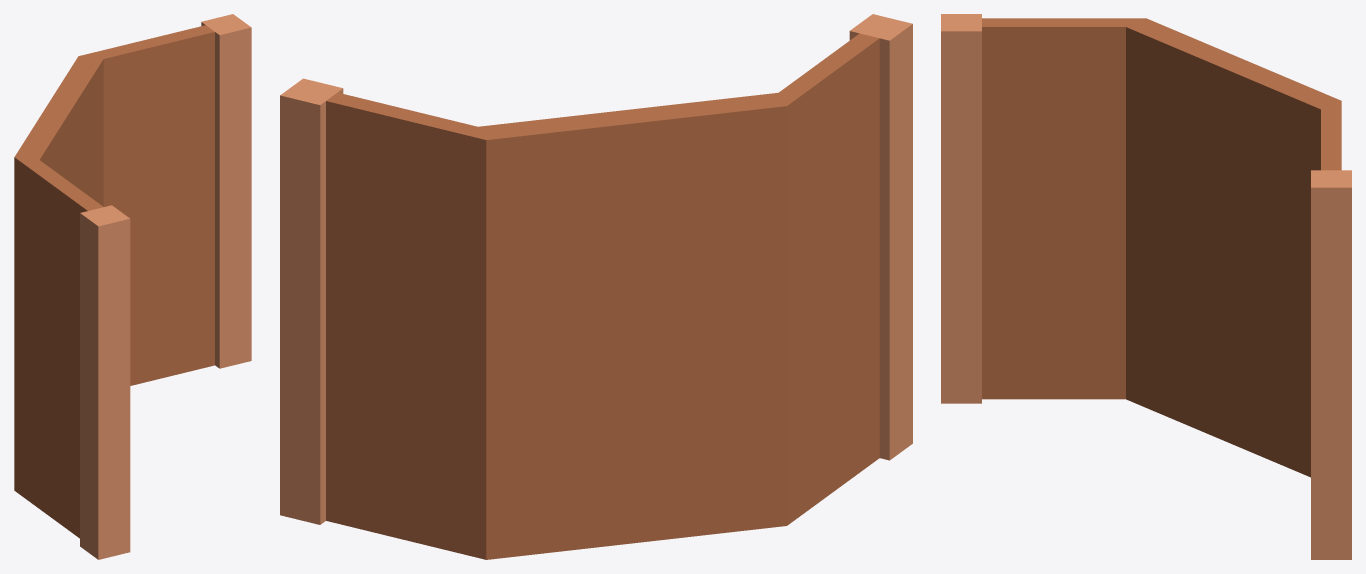
The model's file is wallWoodCornerDiagonal.glb.
3 views of the same model, side by side, from view 1: azimuth 30°, elevation 25°; view 2: azimuth 150°, elevation 25°; view 3: azimuth 270°, elevation 25° (orthographic). The views are drawn at different scales.
Visible parts, largest first — view 1: wallWoodCornerDiagonal; view 2: wallWoodCornerDiagonal; view 3: wallWoodCornerDiagonal.
Part boxes in pixels (left/top/right/bottom): wallWoodCornerDiagonal: left=14, top=14, right=251, bottom=559; wallWoodCornerDiagonal: left=280, top=14, right=912, bottom=559; wallWoodCornerDiagonal: left=941, top=14, right=1351, bottom=559.
Bounding box in the file's own units: 1 × 1 × 1.
